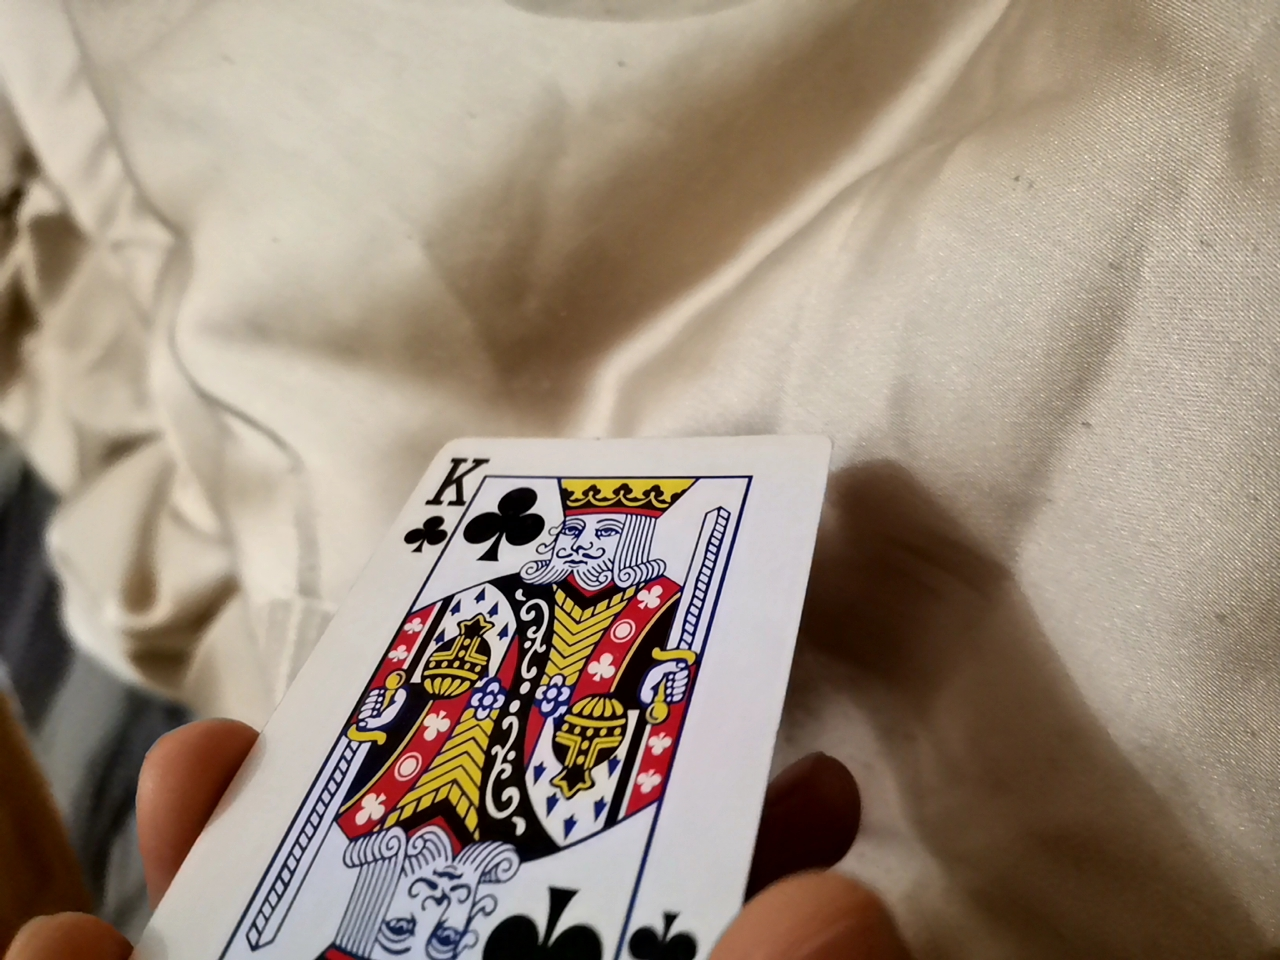mh k: (214, 433, 813, 956)
